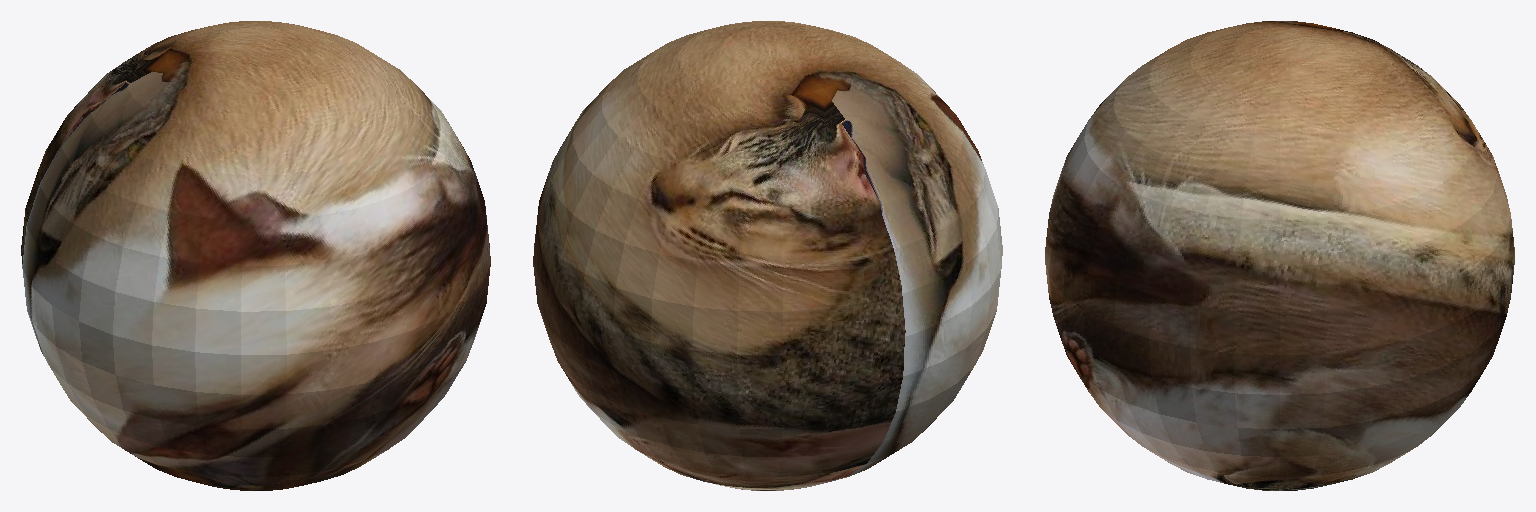
3 renders of one model, left to right at view 1: azimuth 30°, elevation 25°; view 2: azimuth 150°, elevation 25°; view 3: azimuth 270°, elevation 25°, orthographic.
Visible parts, largest first — view 1: Sphere; view 2: Sphere; view 3: Sphere.
Part boxes in pixels (left/top/right/bottom): Sphere: left=21, top=21, right=490, bottom=490; Sphere: left=533, top=21, right=1002, bottom=490; Sphere: left=1045, top=21, right=1514, bottom=490.
Bounding box in the file's own units: 2 × 2 × 2.
Materials: 1 (1 with a texture image).